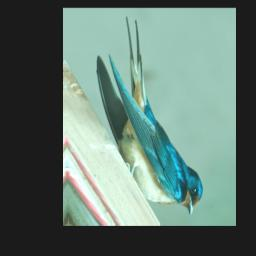Swallow: (94, 15, 204, 217)
